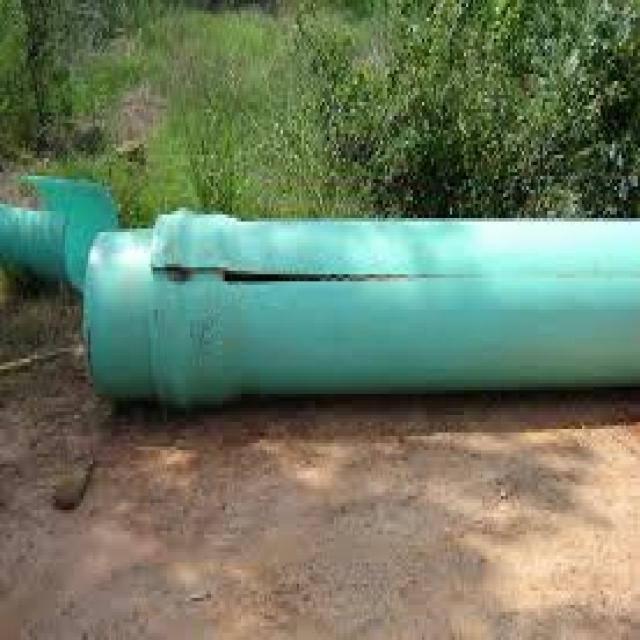crack: (143, 265, 446, 290)
